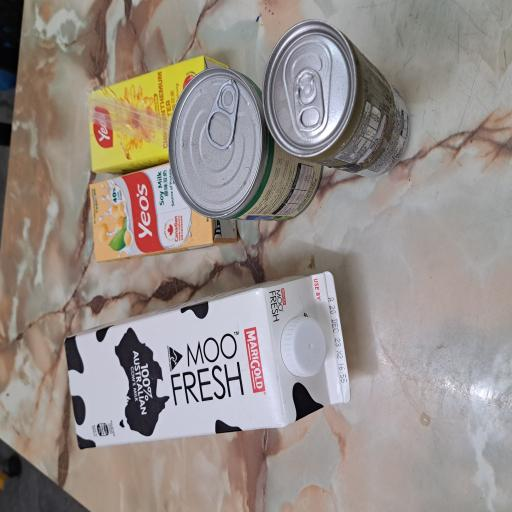can: (222, 225, 334, 430), (255, 352, 367, 512)
drink carton: (48, 83, 182, 469), (254, 118, 342, 304), (189, 120, 262, 319)
plastic bottle cap: (100, 373, 148, 433)
pop tab: (272, 270, 326, 322), (280, 387, 334, 433)
